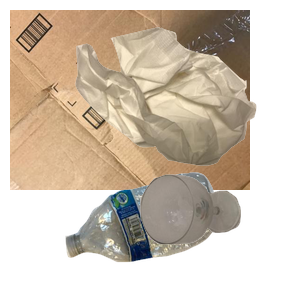cardboard: (10, 10, 250, 190)
glass: (138, 172, 300, 300)
plastic: (63, 170, 278, 300)
trash: (73, 25, 300, 183)
